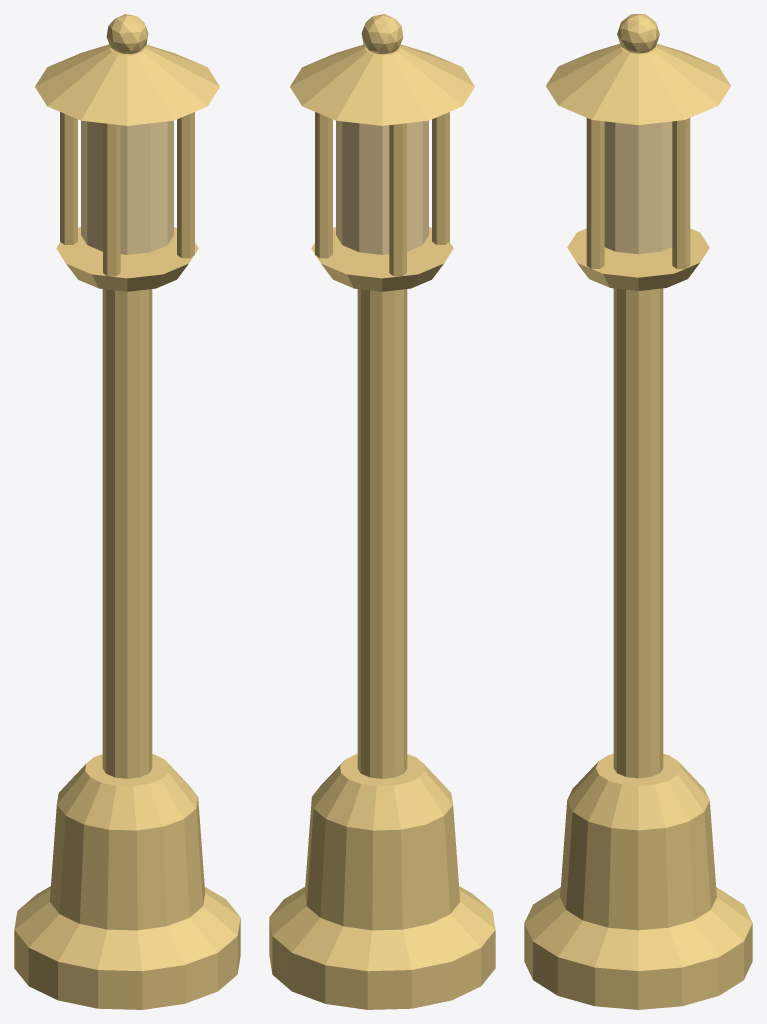
Rendered from HOB_LampPost_Short.fbx.
3 renders of one model, left to right at view 1: azimuth 30°, elevation 25°; view 2: azimuth 150°, elevation 25°; view 3: azimuth 270°, elevation 25°, orthographic.
Parts seen in each view (by area): view 1: HOB_LampPost_Short; view 2: HOB_LampPost_Short; view 3: HOB_LampPost_Short.
Boxes of the visible parts, x1,y1,x2,y2 form: HOB_LampPost_Short: (14, 14, 240, 1009); HOB_LampPost_Short: (269, 14, 495, 1009); HOB_LampPost_Short: (524, 14, 752, 1009).
Bounding box in the file's own units: 54.4 × 249 × 54.4.
